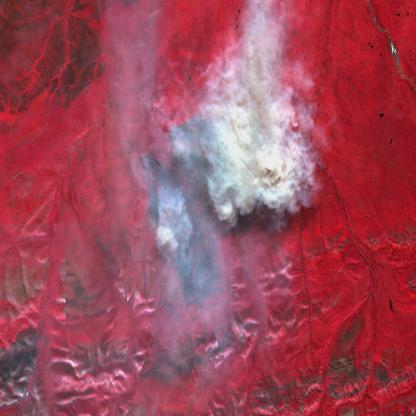fire: (138, 102, 271, 231)
